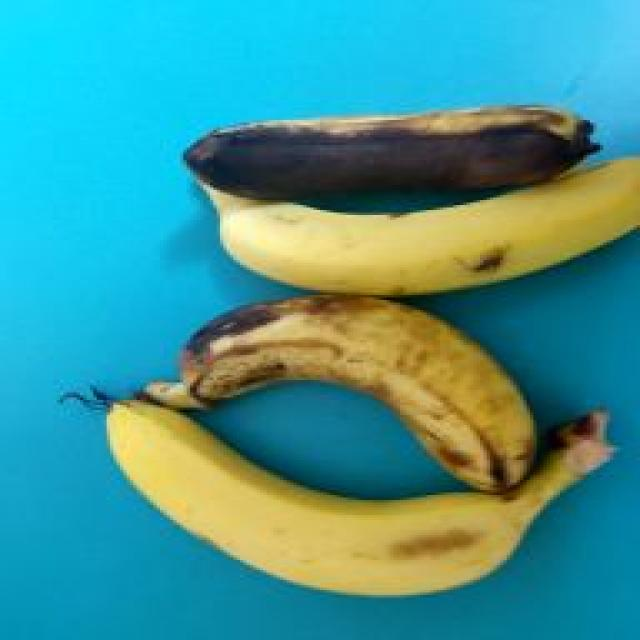Organik: (56, 378, 623, 616), (163, 289, 561, 486), (190, 155, 640, 303), (180, 92, 598, 202)
